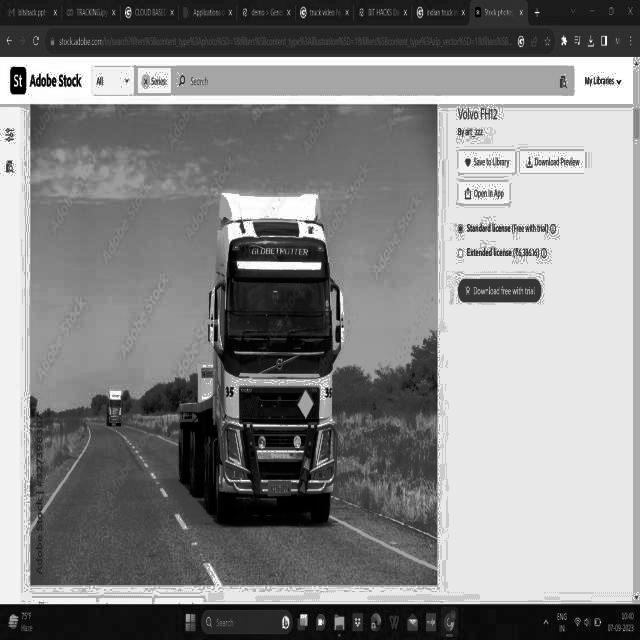HCV: (171, 152, 355, 552)
